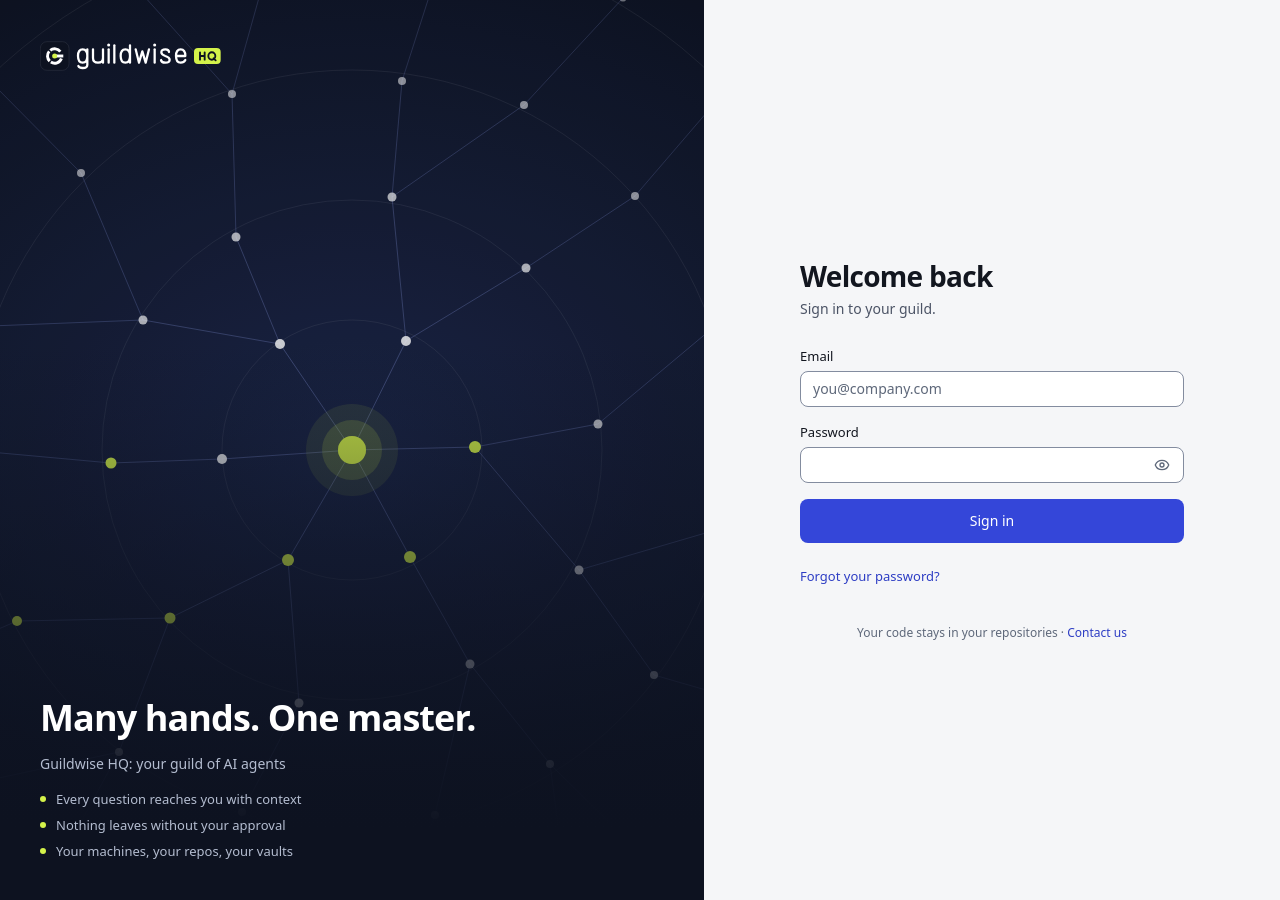
Test case: login screen › a 403 bad_origin gets its own message, not "deactivated"
The width and height of the screenshot is (1280, 900).
Type "a@b.co" into the field labelled "Email" at (992, 389), box [800,371,1184,407]
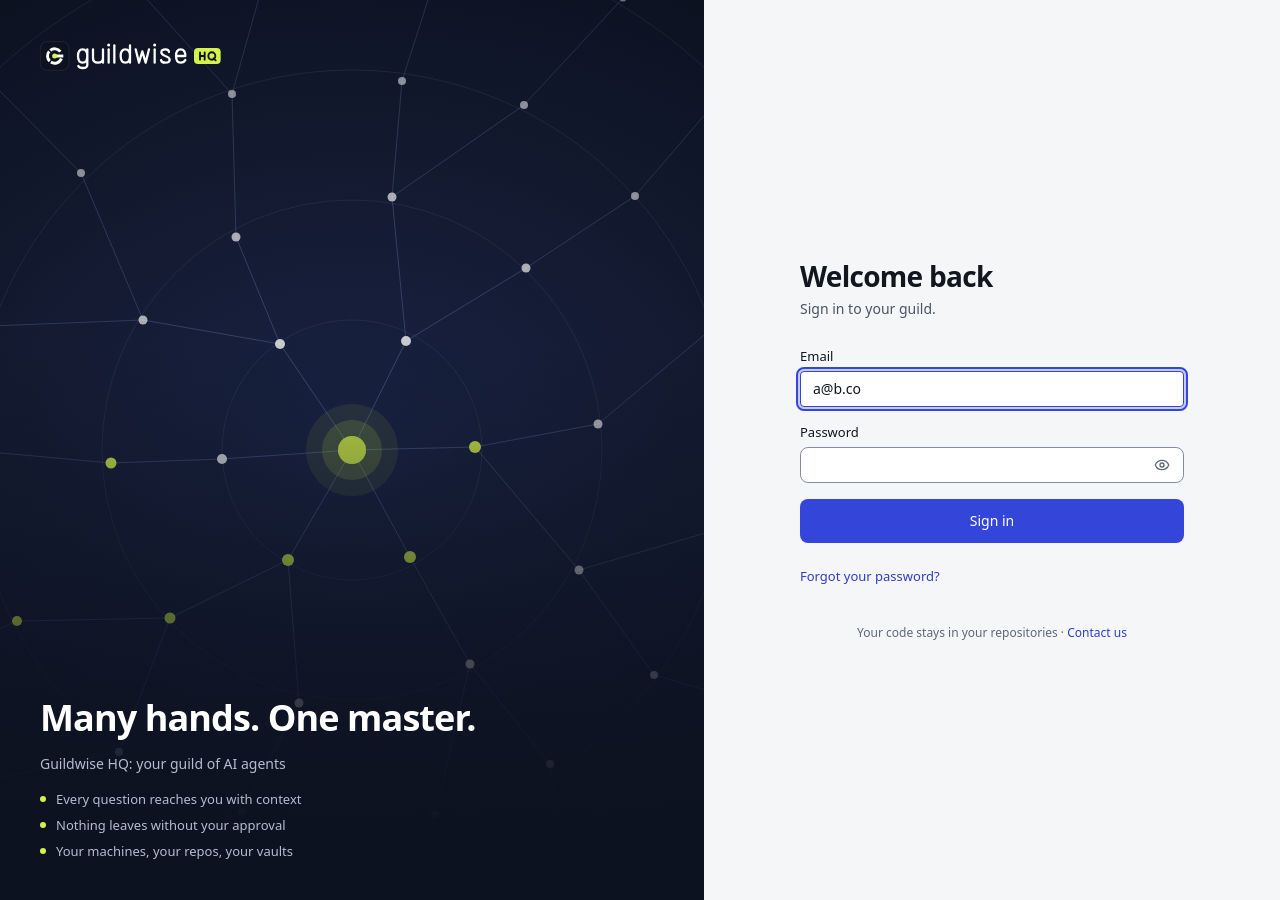
Type "Password-12345" into the password field labelled "Password" at (992, 465), box [800,447,1184,483]
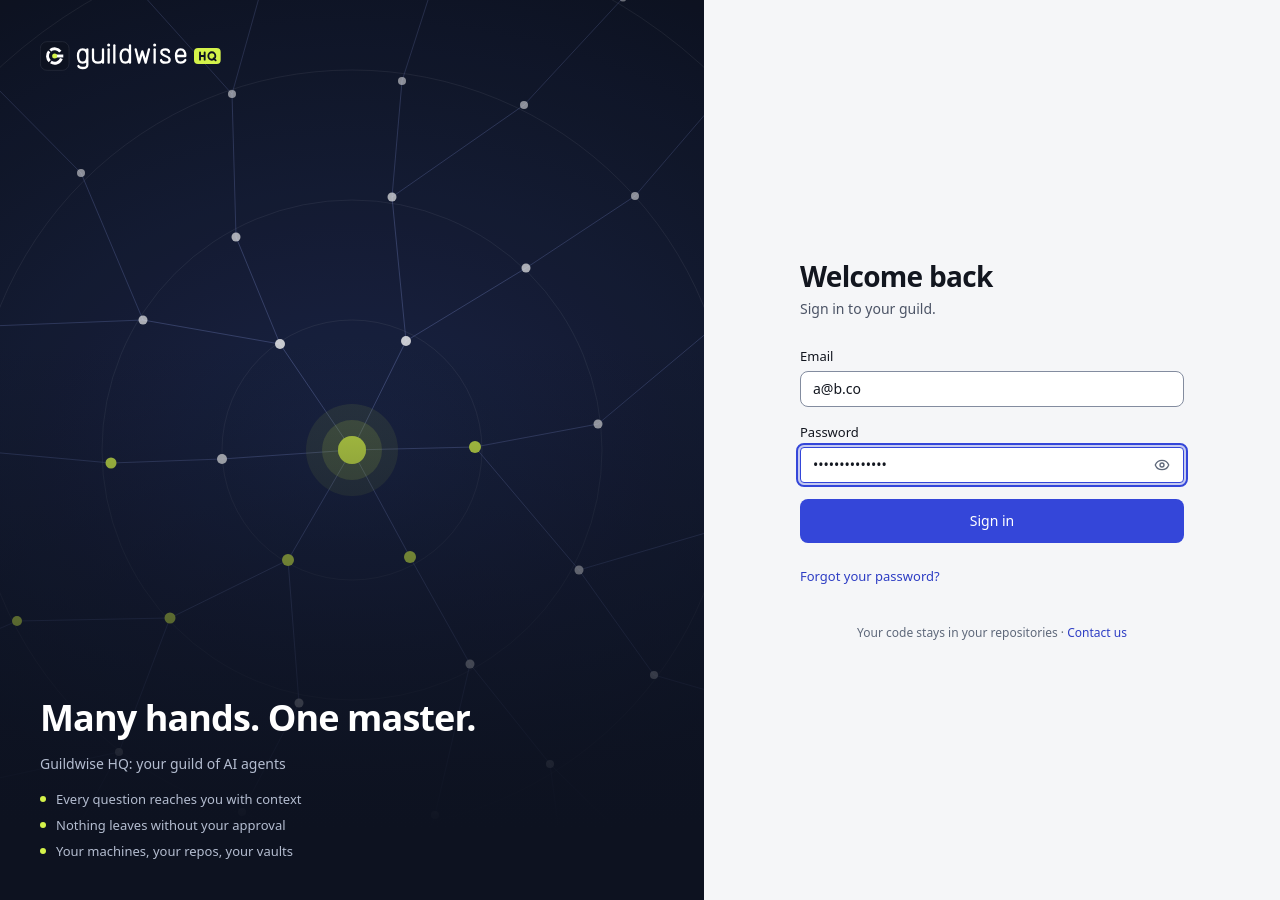
Click the button "Sign in" at (992, 521), box [800,499,1184,543]
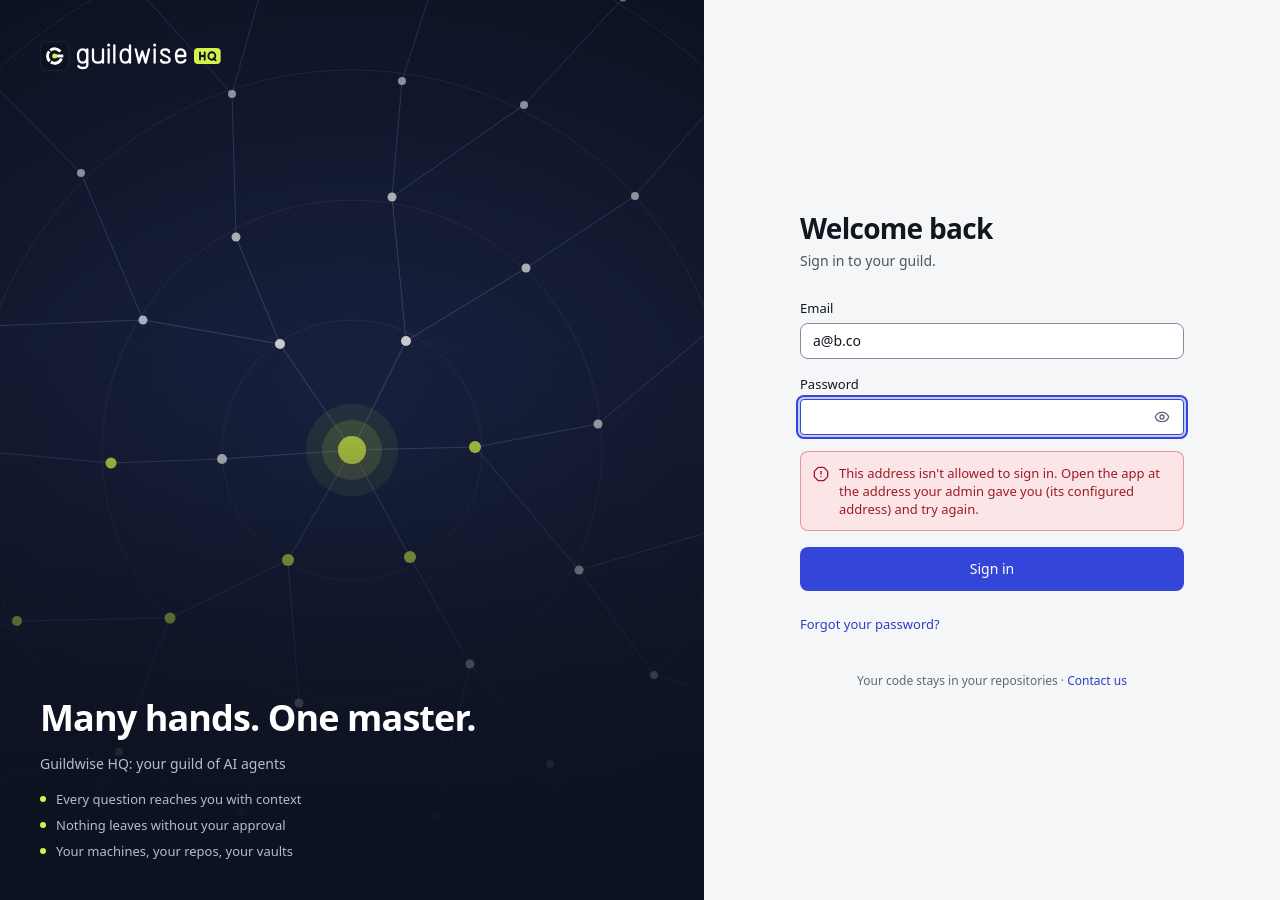
Now the text "This address isn't allowed to sign in" is shown, box [839,464,1160,518]
